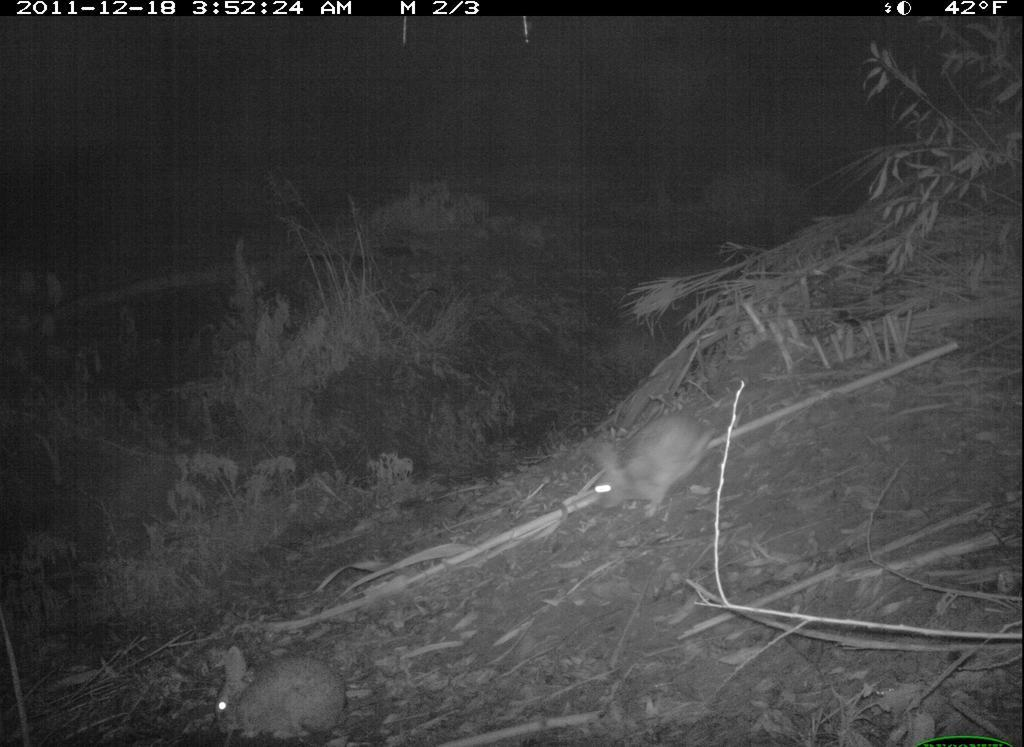rabbit: (567, 392, 717, 525), (212, 637, 368, 745)
